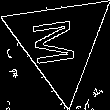M_E: (33, 16, 86, 69)
